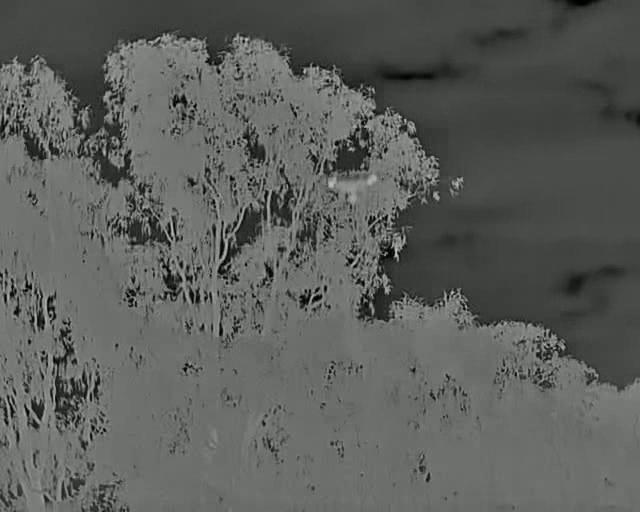DJI-Phantom: (325, 171, 379, 207)
